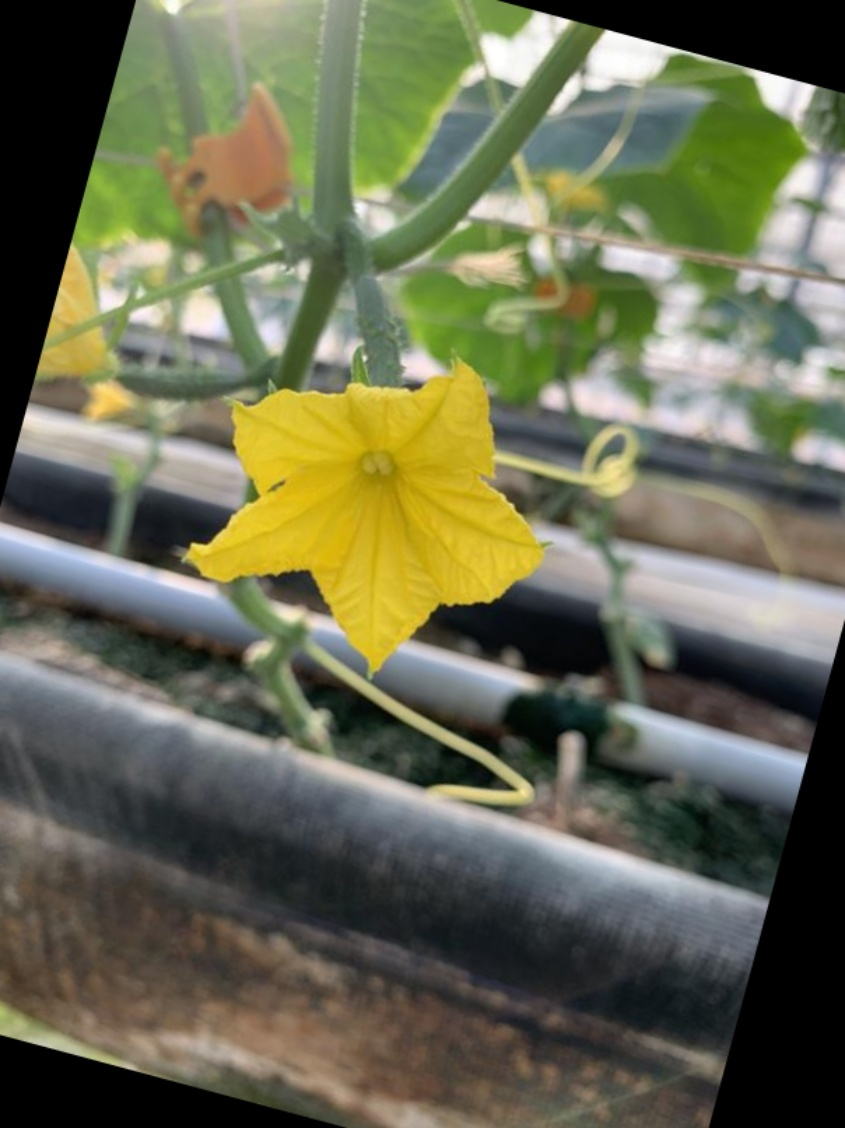flowering: (182, 252, 617, 676)
mature: (180, 248, 617, 675)
